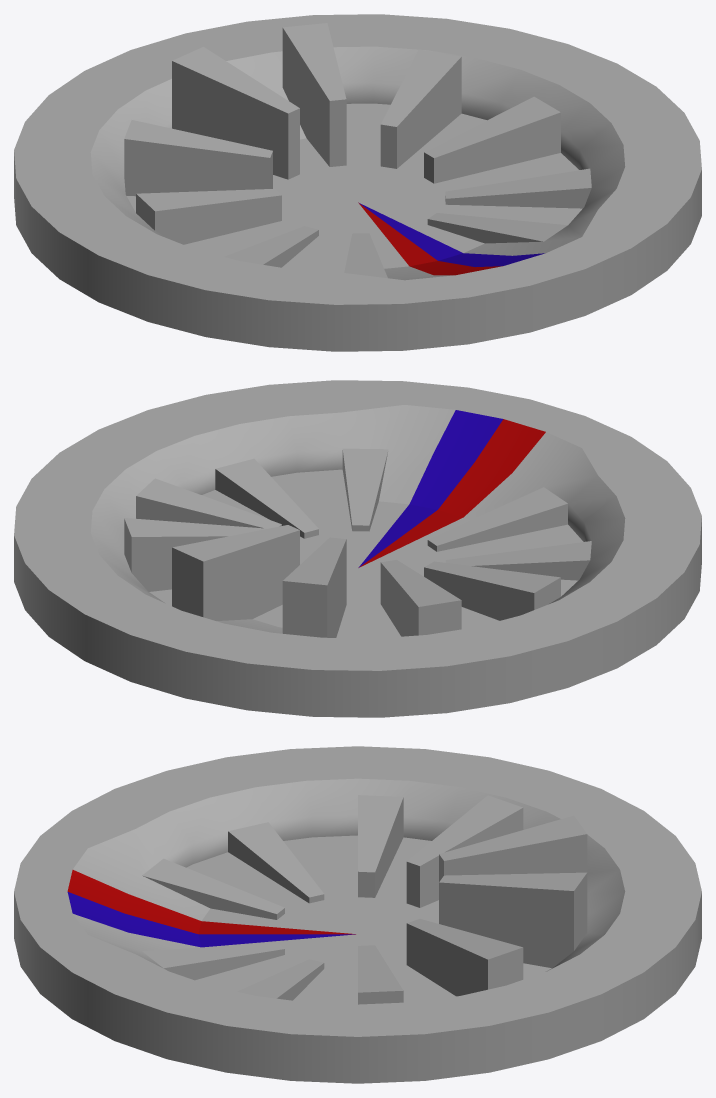
File: L1_Floor.fbx
3 views of the same model, one above another, from view 1: azimuth 30°, elevation 25°; view 2: azimuth 150°, elevation 25°; view 3: azimuth 270°, elevation 25° (orthographic).
Parts seen in each view (by area): view 1: pCylinder2; view 2: pCylinder2; view 3: pCylinder2.
Boxes of the visible parts, box(x1,y1,x2,y2) form: pCylinder2: box(14, 14, 701, 351); pCylinder2: box(14, 380, 701, 717); pCylinder2: box(14, 746, 701, 1083).
Bounding box in the file's own units: 306 × 41.73 × 306.
